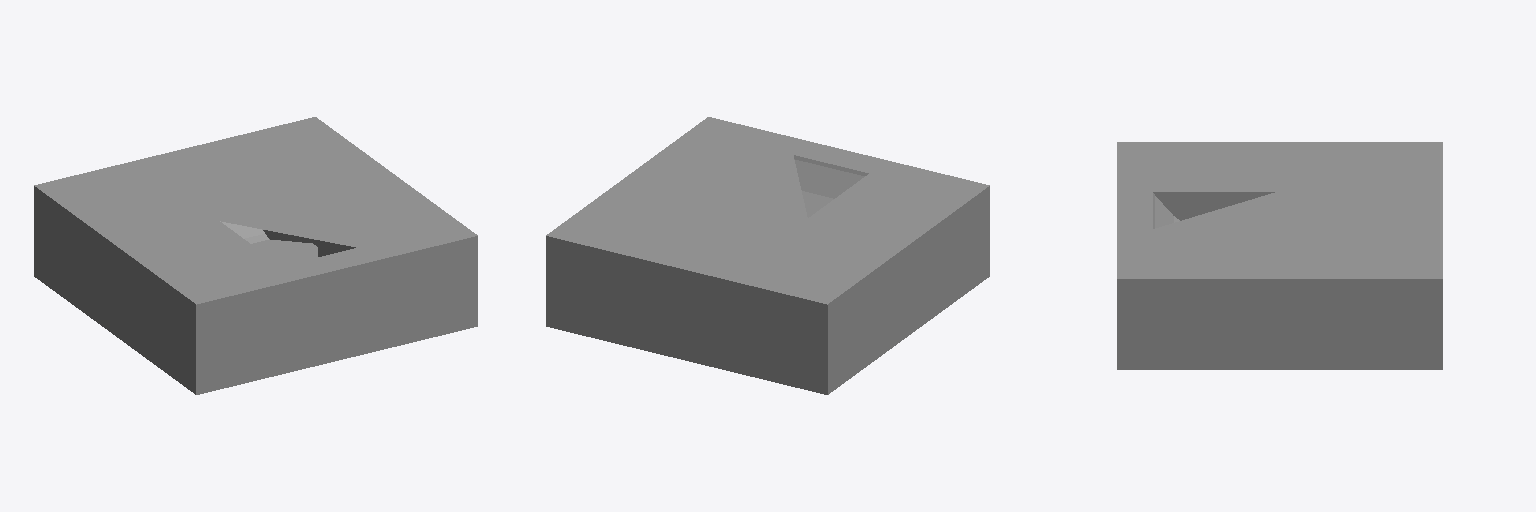
File: vertical_cutout2.obj
3 views of the same model, side by side, from view 1: azimuth 30°, elevation 25°; view 2: azimuth 150°, elevation 25°; view 3: azimuth 270°, elevation 25° (orthographic).
Parts seen in each view (by area): view 1: Cube; view 2: Cube; view 3: Cube.
Boxes of the visible parts, x1=… form: Cube: x1=34, y1=117, x2=477, y2=394; Cube: x1=546, y1=117, x2=989, y2=394; Cube: x1=1117, y1=142, x2=1442, y2=369.
Size of the model in its own units: 13 by 4 by 13.